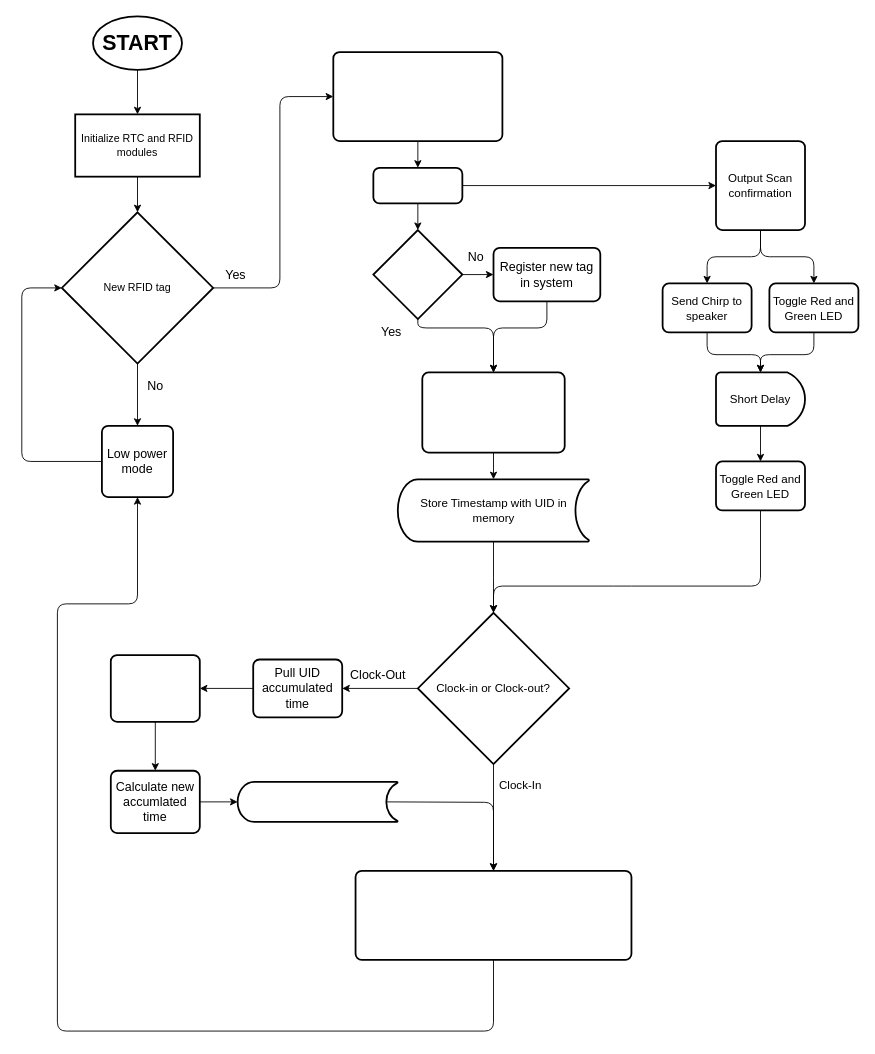
Some shapes in this 875 by 1054 pixel diagram are drawn without their labels. The shapes that lost their labels are listed below. From the top down, each one's centre as x and y in pixels, then its label:
At (x=417, y=96): "Exit Low Power Mode".
At (x=417, y=185): "Read RFID".
At (x=417, y=274): "Known Tag?".
At (x=493, y=412): "Access RTC for current timestamp".
At (x=154, y=688): "Check last timestamp registered with UID".
At (x=317, y=801): "Store new time for UID".
At (x=493, y=915): "Output Time data to LCD for user. Session Time and Total Time".
